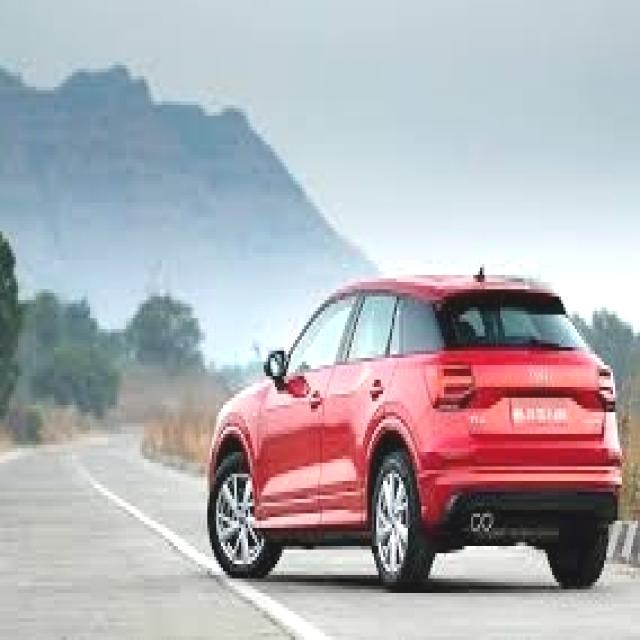red: (206, 270, 626, 584)
